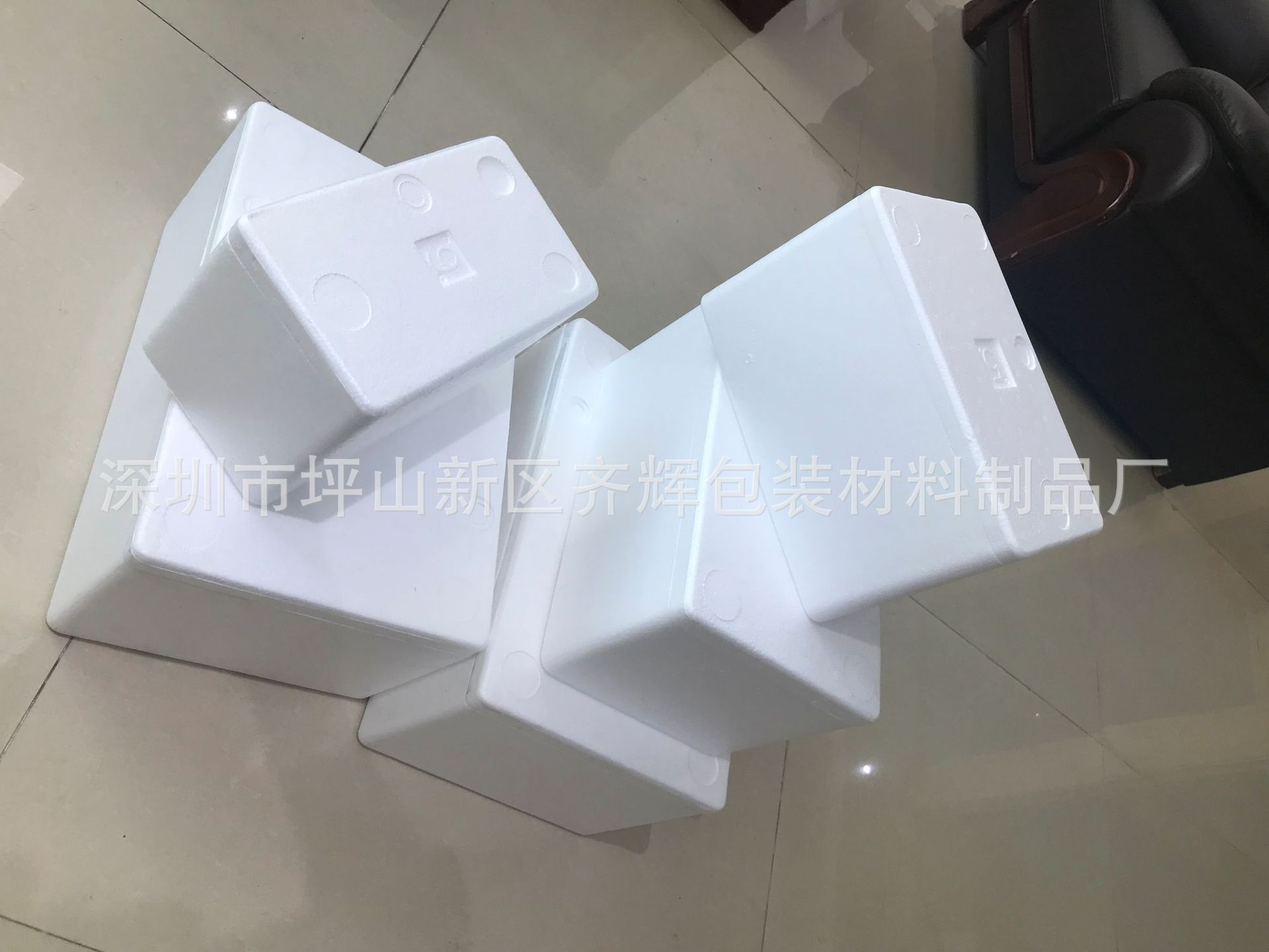泡沫箱: (49, 104, 1101, 832)
